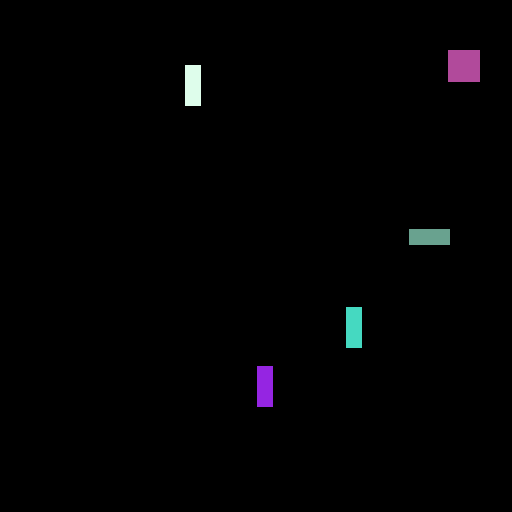side_rect: (410, 222, 459, 252)
square: (444, 43, 489, 93)
up_rect: (341, 303, 367, 351), (180, 61, 206, 109), (250, 360, 276, 408)
